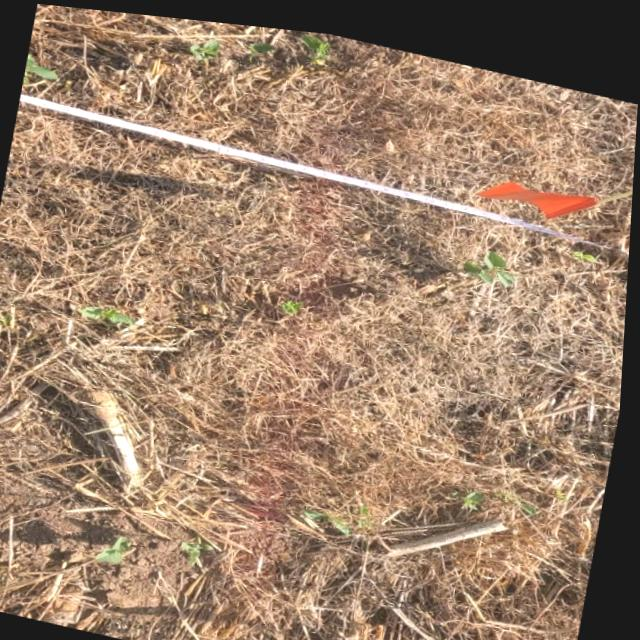soy_plant: (294, 493, 382, 529), (467, 239, 516, 274), (82, 302, 137, 322), (186, 530, 219, 560), (102, 532, 137, 559), (502, 479, 542, 501), (455, 477, 491, 500), (26, 53, 59, 78), (301, 27, 329, 56), (190, 33, 219, 54), (385, 498, 407, 517), (249, 34, 275, 49), (283, 291, 307, 307), (575, 237, 600, 249), (0, 311, 13, 324)
